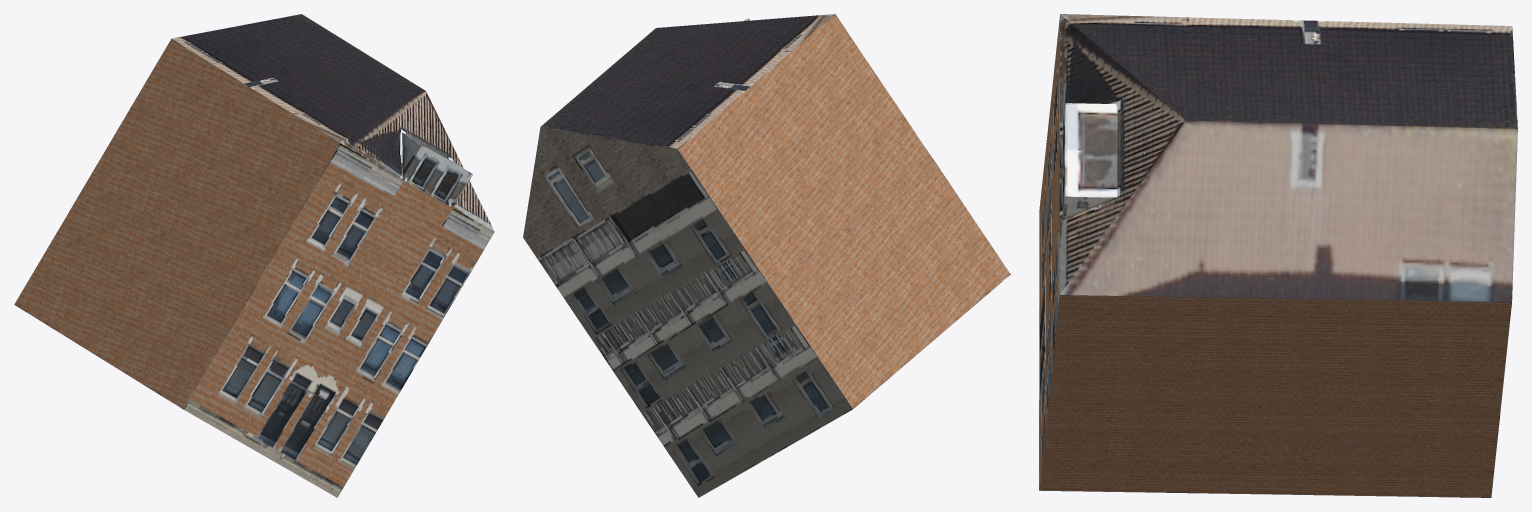
The picture shows the model from 3 angles, left to right: view 1: azimuth 30°, elevation 25°; view 2: azimuth 150°, elevation 25°; view 3: azimuth 270°, elevation 25°; orthographic projection. The views are drawn at different scales.
Visible parts, largest first — view 1: BAG_0599100000760398 (×2); view 2: BAG_0599100000760398; view 3: BAG_0599100000760398 (×3).
Boxes of the visible parts, bbox=[...] form: BAG_0599100000760398 (×2): bbox=[14, 14, 494, 497]; BAG_0599100000760398: bbox=[523, 14, 1010, 497]; BAG_0599100000760398 (×3): bbox=[1039, 14, 1517, 497].
Bounding box in the file's own units: 13.58 × 14.2 × 12.38.
1 material, 1 textured.
